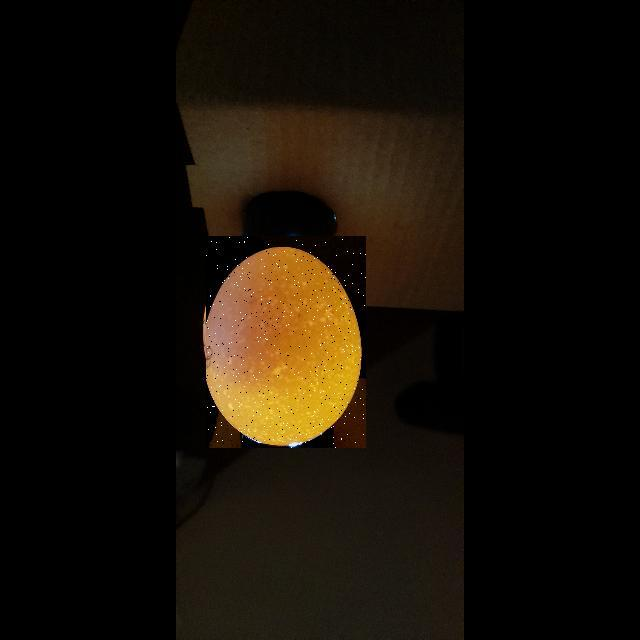AA - Premium: (206, 236, 366, 448)
